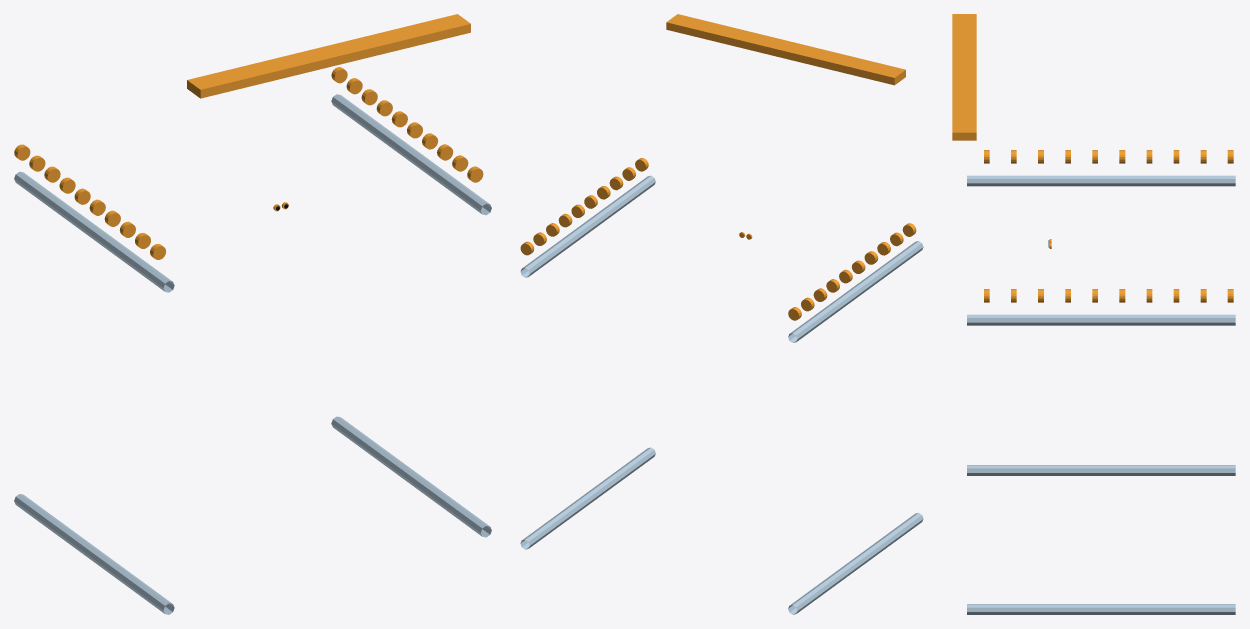
File: 56_L89_ShieldCassetteRailArray.fbx
3 views of the same model, side by side, from view 1: azimuth 30°, elevation 25°; view 2: azimuth 150°, elevation 25°; view 3: azimuth 270°, elevation 25° (orthographic). The views are drawn at different scales.
Parts seen in each view (by area): view 1: L87_ShieldCassetteRailArray_Part_0000, L87_ShieldCassetteRailArray_Part_0003, L87_ShieldCassetteRailArray_Part_0001; view 2: L87_ShieldCassetteRailArray_Part_0000, L87_ShieldCassetteRailArray_Part_0003, L87_ShieldCassetteRailArray_Part_0001; view 3: L87_ShieldCassetteRailArray_Part_0000, L87_ShieldCassetteRailArray_Part_0003, L87_ShieldCassetteRailArray_Part_0001.
Part boxes in pixels (x1,y1,x2,y2): L87_ShieldCassetteRailArray_Part_0000: [14, 94, 491, 614]; L87_ShieldCassetteRailArray_Part_0003: [187, 14, 470, 98]; L87_ShieldCassetteRailArray_Part_0001: [14, 67, 468, 259]; L87_ShieldCassetteRailArray_Part_0000: [520, 175, 923, 614]; L87_ShieldCassetteRailArray_Part_0003: [666, 14, 905, 85]; L87_ShieldCassetteRailArray_Part_0001: [520, 167, 916, 320]; L87_ShieldCassetteRailArray_Part_0000: [967, 175, 1235, 614]; L87_ShieldCassetteRailArray_Part_0003: [952, 14, 976, 140]; L87_ShieldCassetteRailArray_Part_0001: [984, 150, 1233, 302].
Bounding box in the file's own units: 708 × 1076 × 585.
